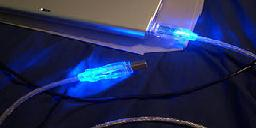LED: (71, 56, 130, 85), (156, 23, 199, 44)
